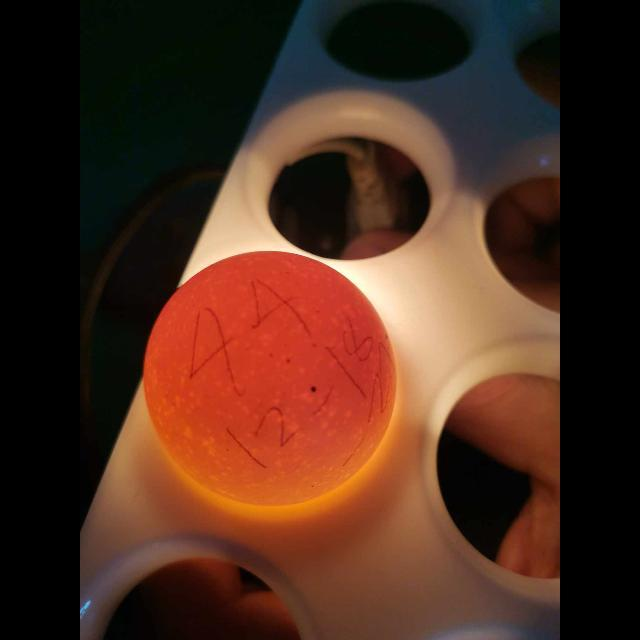Infertile: (128, 250, 398, 510)
